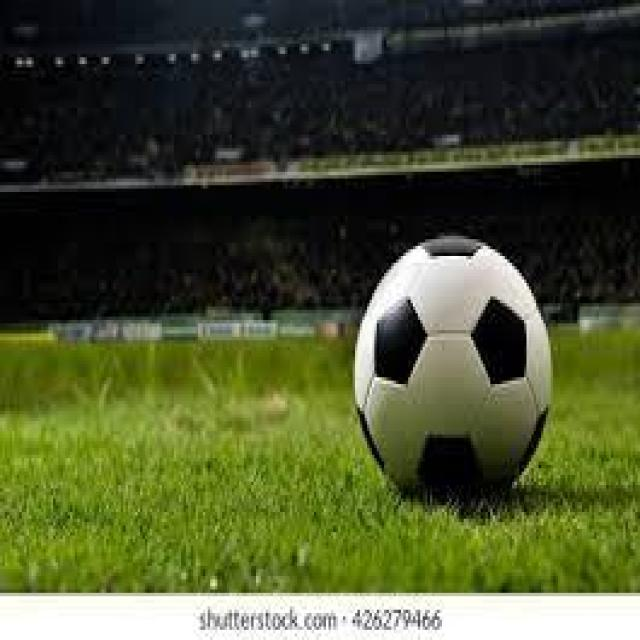Soccer Ball: (358, 236, 550, 502)
